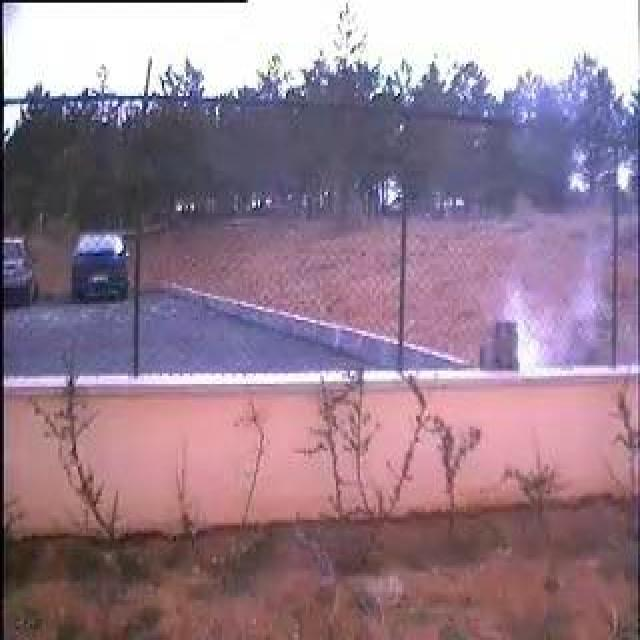Smoke: (506, 267, 600, 376)
